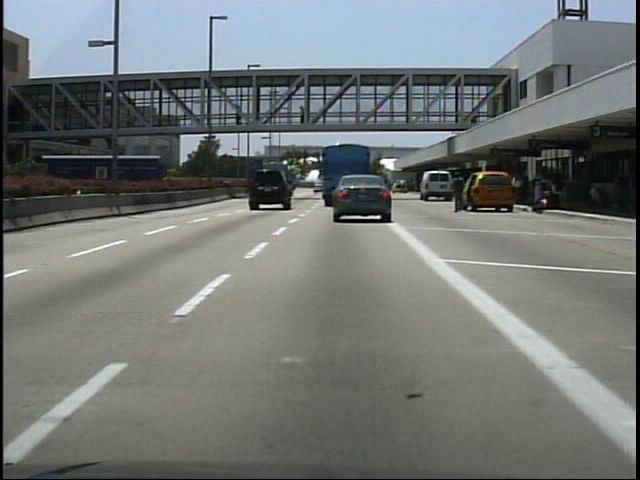person: (451, 172, 471, 218), (297, 104, 311, 132), (232, 102, 248, 126)
